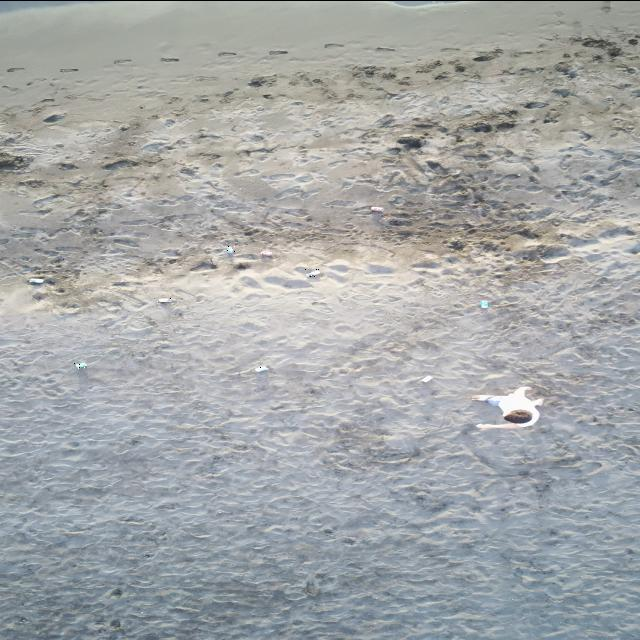Garbage: (472, 387, 542, 427), (190, 259, 216, 271), (235, 261, 249, 270), (253, 364, 267, 372), (28, 276, 44, 283), (157, 296, 172, 303), (307, 268, 320, 276), (74, 360, 87, 368), (224, 244, 233, 255), (260, 249, 270, 258), (369, 206, 383, 212), (420, 375, 432, 382), (480, 300, 488, 307)
